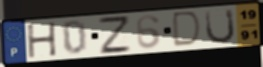0: (61, 19, 89, 56)
6: (135, 14, 163, 51)
D: (172, 10, 204, 49)
H: (25, 21, 59, 60)
U: (204, 7, 237, 45)
Z: (97, 16, 134, 56)
